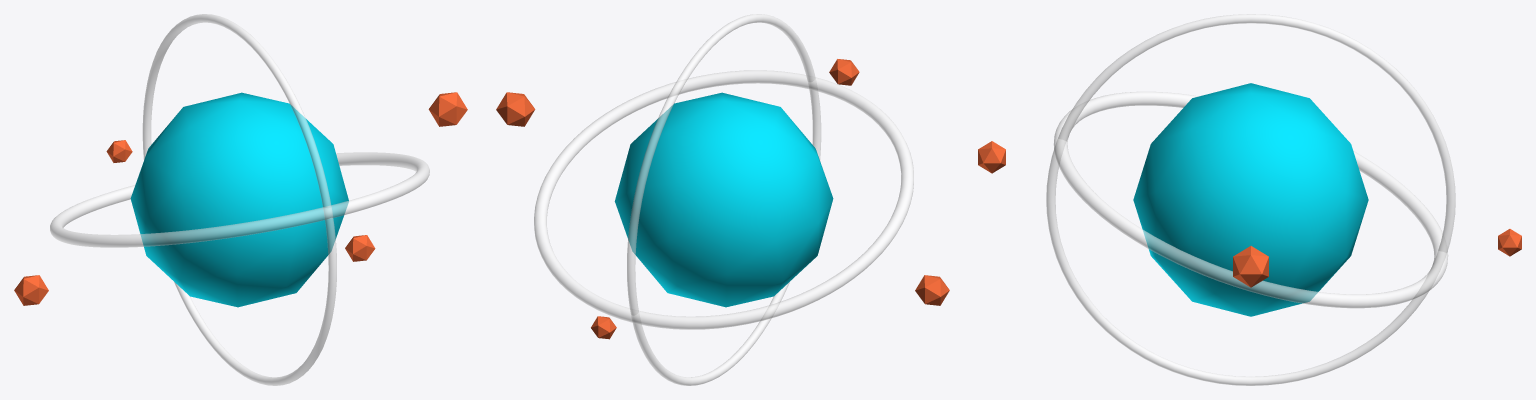
3 renders of one model, left to right at view 1: azimuth 30°, elevation 25°; view 2: azimuth 150°, elevation 25°; view 3: azimuth 270°, elevation 25°, orthographic. The views are drawn at different scales.
Size of the model in its own units: 4.69 by 3.48 by 4.62.
